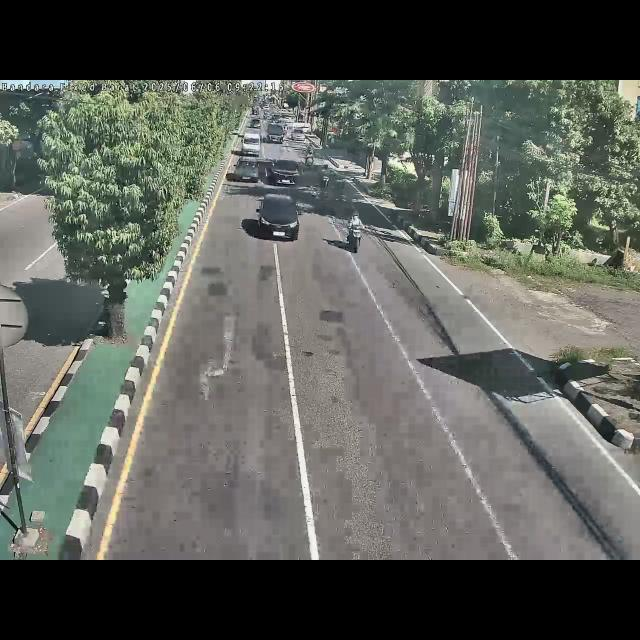Mobil: (253, 188, 305, 246), (266, 156, 302, 188), (226, 156, 262, 180)
Motor: (348, 210, 368, 256)
